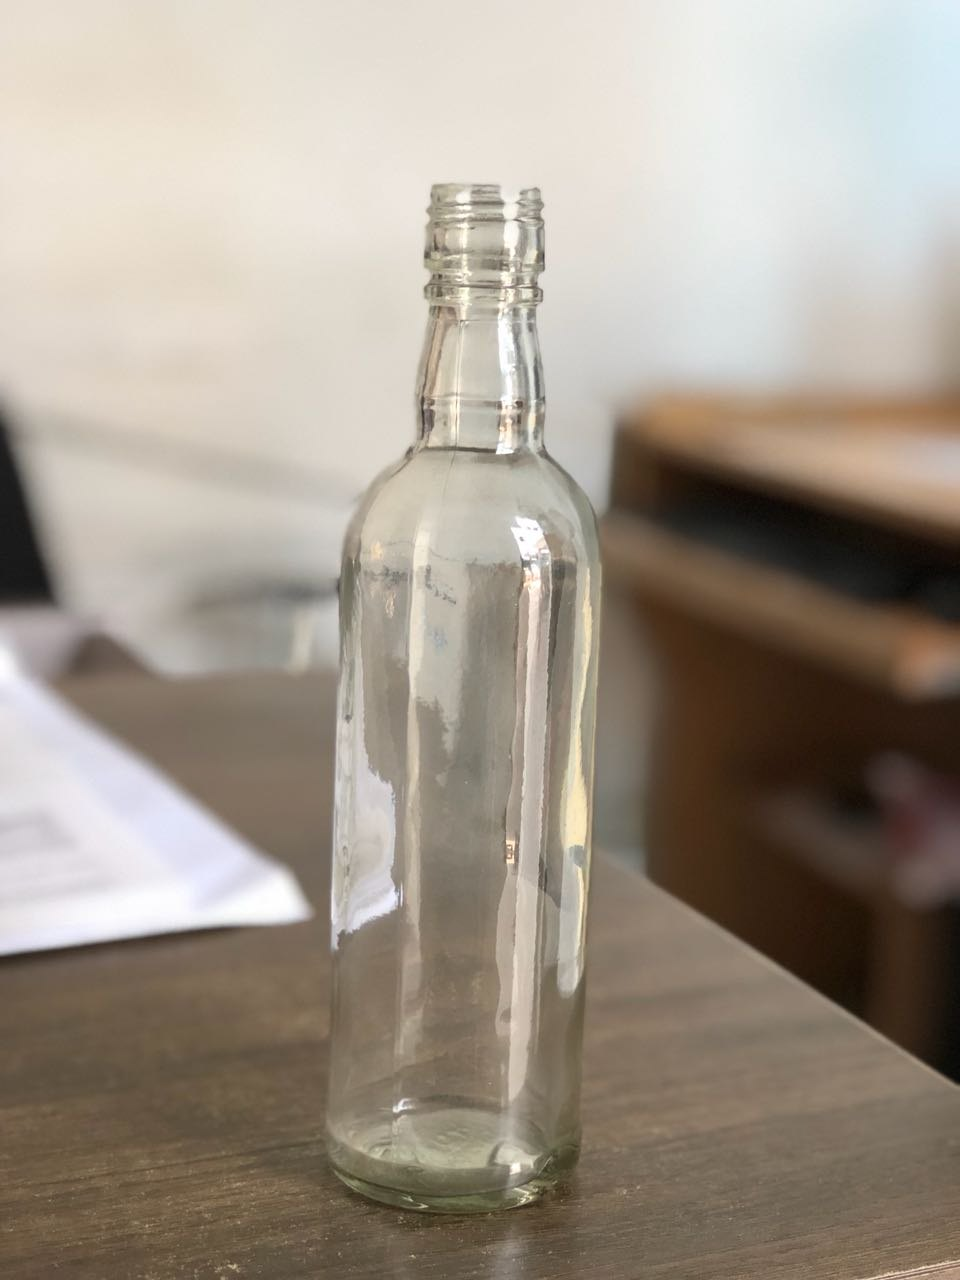glass_bottle: (297, 166, 644, 1231)
